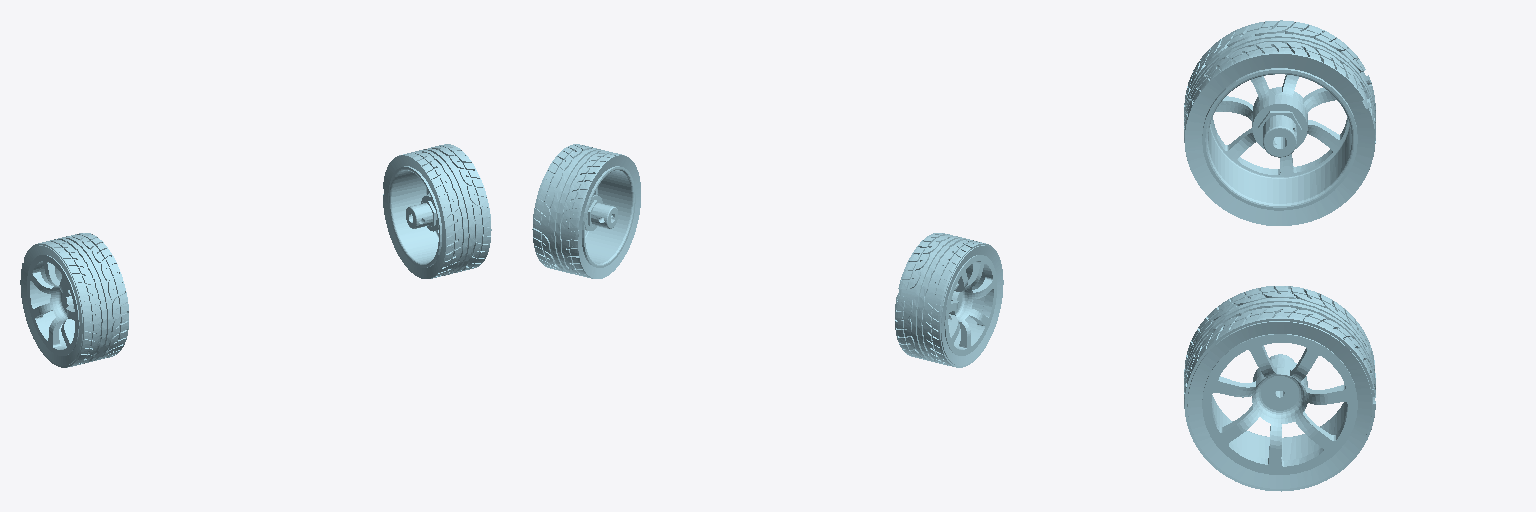
robot.urdf — cubot_v2_sw2urdf:
<?xml version="1.0" encoding="utf-8"?>
<!-- This URDF was automatically created by SolidWorks to URDF Exporter! Originally created by [author] ([email redacted]) 
     Commit Version: 1.6.0-4-g7f85cfe  Build Version: 1.6.7995.38578
     For more information, please see http://wiki.ros.org/sw_urdf_exporter -->
<robot
  name="cubot_v2_sw2urdf">
  <link
    name="chassis_link">
    <inertial>
      <origin
        xyz="-0.000965136531105137 -0.0436103484806622 0.0147568573788979"
        rpy="0 0 0" />
      <mass
        value="2.22469318861141" />
      <inertia
        ixx="0.00517186923483878"
        ixy="4.04694092279558E-06"
        ixz="2.85002080178647E-06"
        iyy="0.00816901465681917"
        iyz="2.22325509697602E-05"
        izz="0.0105125411817138" />
    </inertial>
    <visual>
      <origin
        xyz="0 0 0"
        rpy="0 0 0" />
      <geometry>
        <mesh
          filename="package://cubot_v2_sw2urdf/meshes/chassis_link.STL" />
      </geometry>
      <material
        name="">
        <color
          rgba="1 1 1 1" />
      </material>
    </visual>
    <collision>
      <origin
        xyz="0 0 0"
        rpy="0 0 0" />
      <geometry>
        <mesh
          filename="package://cubot_v2_sw2urdf/meshes/chassis_link.STL" />
      </geometry>
    </collision>
  </link>
  <link
    name="left_wheel_link">
    <inertial>
      <origin
        xyz="-0.00341416691684442 -4.64743523193589E-05 -2.83687443139446E-06"
        rpy="0 0 0" />
      <mass
        value="0.0458667490486255" />
      <inertia
        ixx="3.31656653108071E-05"
        ixy="-8.88398310340076E-10"
        ixz="-1.1581763415313E-12"
        iyy="1.92244241566698E-05"
        iyz="2.88561876552184E-09"
        izz="1.9156447935455E-05" />
    </inertial>
    <visual>
      <origin
        xyz="0 0 0"
        rpy="0 0 0" />
      <geometry>
        <mesh
          filename="package://cubot_v2_sw2urdf/meshes/left_wheel_link.STL" />
      </geometry>
      <material
        name="">
        <color
          rgba="0.741176470588235 0.901960784313726 0.956862745098039 1" />
      </material>
    </visual>
    <collision>
      <origin
        xyz="0 0 0"
        rpy="0 0 0" />
      <geometry>
        <mesh
          filename="package://cubot_v2_sw2urdf/meshes/left_wheel_link.STL" />
      </geometry>
    </collision>
  </link>
  <joint
    name="left_wheel_joint"
    type="continuous">
    <origin
      xyz="0.110182841532191 0.0193193127803252 -0.0349999999995608"
      rpy="0 0 0" />
    <parent
      link="chassis_link" />
    <child
      link="left_wheel_link" />
    <axis
      xyz="1 0 0" />
  </joint>
  <link
    name="right_wheel_link">
    <inertial>
      <origin
        xyz="-0.00341416659647087 4.26064723380859E-05 -1.8778365346056E-05"
        rpy="0 0 0" />
      <mass
        value="0.0458667417414472" />
      <inertia
        ixx="3.31656618454357E-05"
        ixy="7.89123980209917E-10"
        ixz="-4.07019149776152E-10"
        iyy="1.92124991905592E-05"
        iyz="-2.6012328089685E-08"
        izz="1.91683685719054E-05" />
    </inertial>
    <visual>
      <origin
        xyz="0 0 0"
        rpy="0 0 0" />
      <geometry>
        <mesh
          filename="package://cubot_v2_sw2urdf/meshes/right_wheel_link.STL" />
      </geometry>
      <material
        name="">
        <color
          rgba="0.741176470588235 0.901960784313726 0.956862745098039 1" />
      </material>
    </visual>
    <collision>
      <origin
        xyz="0 0 0"
        rpy="0 0 0" />
      <geometry>
        <mesh
          filename="package://cubot_v2_sw2urdf/meshes/right_wheel_link.STL" />
      </geometry>
    </collision>
  </link>
  <joint
    name="right_wheel_joint"
    type="continuous">
    <origin
      xyz="-0.110182841532843 0.0193193127803632 -0.035"
      rpy="0 0 -3.14159265358979" />
    <parent
      link="chassis_link" />
    <child
      link="right_wheel_link" />
    <axis
      xyz="1 0 0" />
  </joint>
</robot>

--- Facts derived from the render (not from the file) ---
The picture shows the robot from 3 angles, left to right: view 1: azimuth 30°, elevation 25°; view 2: azimuth 150°, elevation 25°; view 3: azimuth 270°, elevation 25°; orthographic projection.
Model cubot_v2_sw2urdf with 3 links and 2 joints (2 continuous), rooted at chassis_link, posed all joints at 0.
Links seen in each view (by area): view 1: right_wheel_link, left_wheel_link; view 2: left_wheel_link, right_wheel_link; view 3: left_wheel_link, right_wheel_link.
Boxes of the visible links, x1,y1,x2,y2 form: right_wheel_link: (20, 233, 128, 367); left_wheel_link: (383, 144, 491, 278); left_wheel_link: (532, 144, 640, 278); right_wheel_link: (895, 233, 1003, 367); left_wheel_link: (1184, 286, 1375, 491); right_wheel_link: (1184, 20, 1375, 225).
Bounding box of the posed robot: 0.2397 × 0.065 × 0.065 m (x, y, z).
Meshes: 3 distinct files referenced, 2 mesh visuals loaded (2 binary STL); not drawn: 1 (reference not matched to a file when rendering).